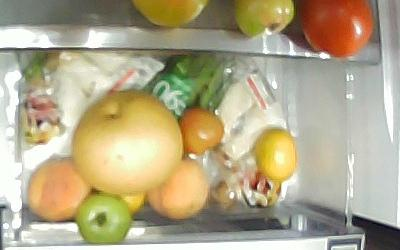peach: (27, 157, 91, 222), (146, 157, 209, 220)
pear: (72, 91, 183, 195)
tangerine: (254, 128, 298, 180)
tomato: (76, 192, 131, 244), (179, 107, 226, 154)
